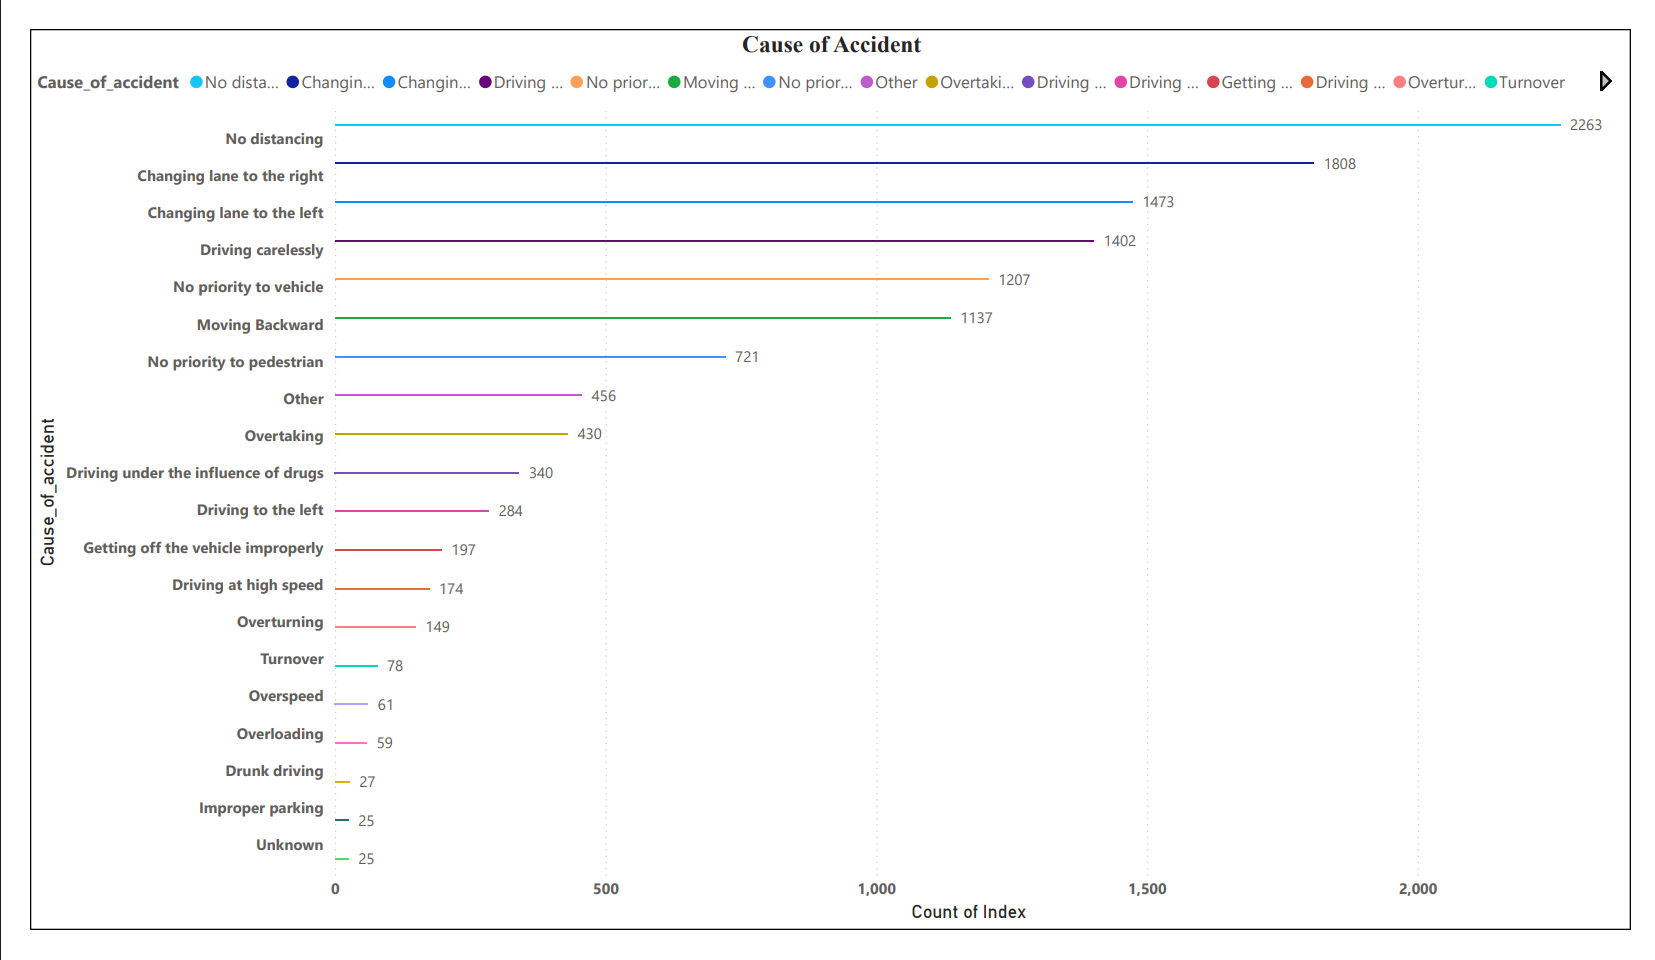

Layout of this report page (visuals, bound fields, positions):
{"tool":"powerbi","page":{"name":"Cause of Accident","canvas":[1280,720],"ordinal":6},"visuals":[{"type":"clusteredBarChart","title":"Cause of Accident","fields":{"Y":["CountNonNull(RTA Dataset.Index)"],"Category":["RTA Dataset.Cause_of_accident"],"Series":["RTA Dataset.Cause_of_accident"]},"box":[0,0,1280,720],"z":0}]}

Visuals, with their boxes on the page's 1280x720 design canvas (x1, y1, x2, y2). These are canvas units, not pixel positions in the 1655x960 screenshot, which may show the page scaled, cropped or inside an application window:
"Cause of Accident" clusteredBarChart: x1=0, y1=0, x2=1280, y2=720
